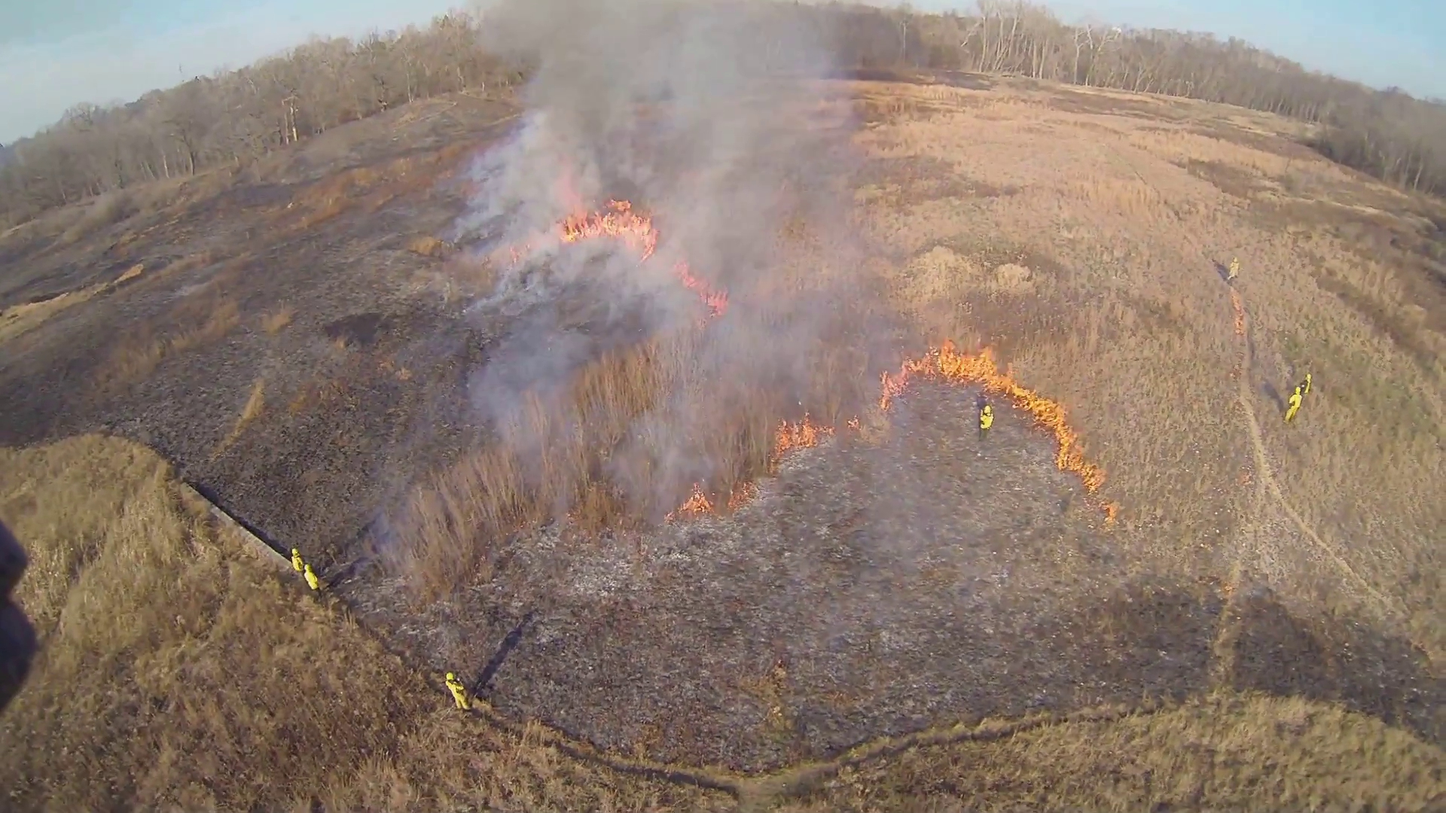forest_fire: (878, 342, 1103, 492), (553, 200, 660, 262), (671, 260, 728, 317), (774, 418, 831, 453)
